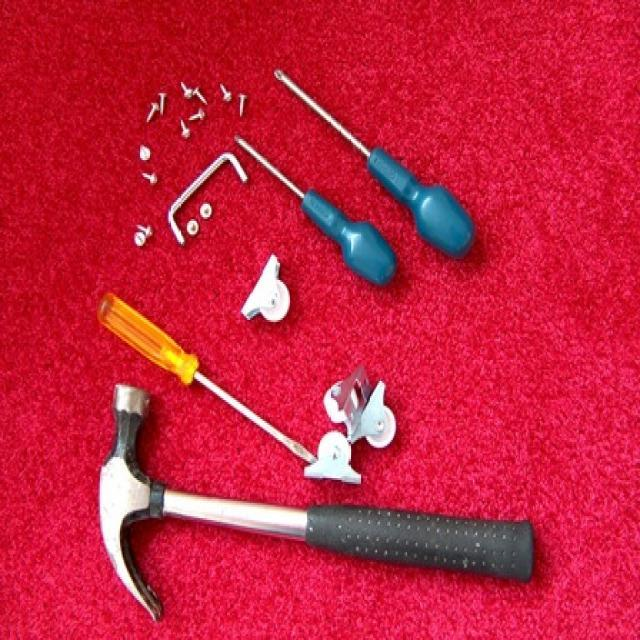hammer: (87, 378, 546, 632)
screwdriver: (84, 280, 334, 482), (266, 42, 484, 267), (222, 123, 393, 296)
